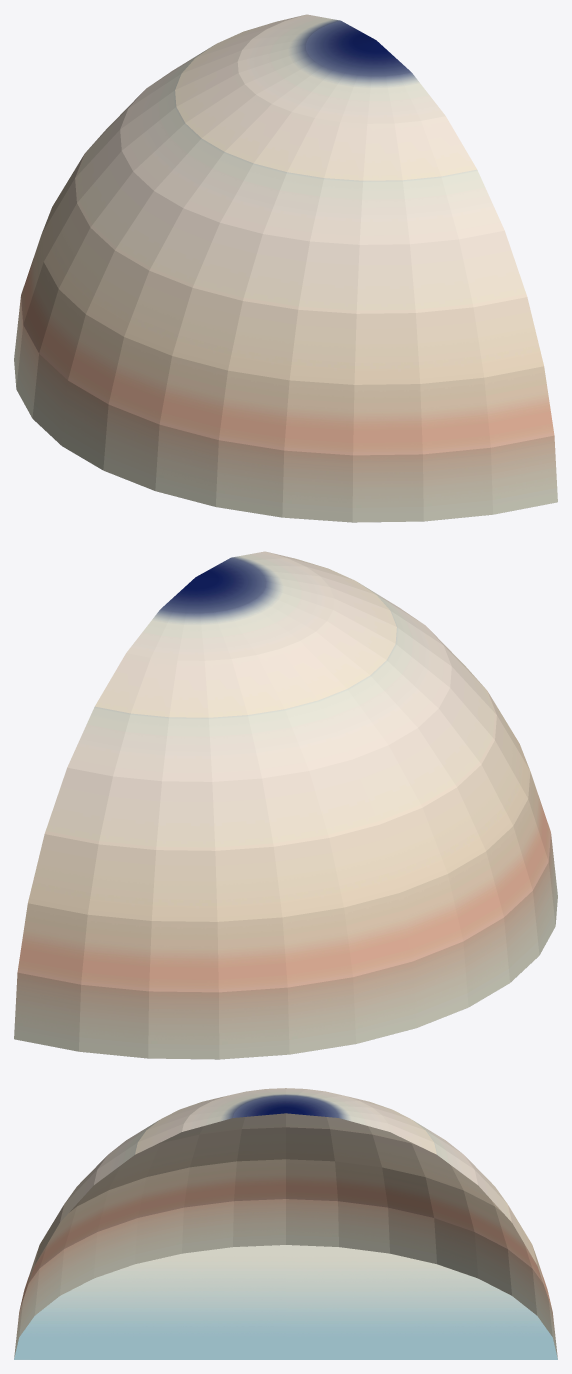
Rendered from Context.dae.
3 views of the same model, one above another, from view 1: azimuth 30°, elevation 25°; view 2: azimuth 150°, elevation 25°; view 3: azimuth 270°, elevation 25° (orthographic). The views are drawn at different scales.
Visible parts, largest first — view 1: group_2, group_4, group_17, group_9, group_12, group_3, group_10, group_11, group_14, group_15, group_5, group_13 (+3 smaller); view 2: group_16, group_6, group_8, group_13, group_7, group_5, group_15, group_14, group_11, group_10, group_3, group_9 (+3 smaller); view 3: group_0, group_11, group_14, group_10, group_15, group_3, group_5, group_9, group_13, group_4, group_6, group_2 (+5 smaller).
Boxes of the visible parts, x1=… form: group_2: x1=352, y1=41, x2=423, y2=522; group_4: x1=282, y1=41, x2=376, y2=522; group_17: x1=376, y1=41, x2=492, y2=521; group_9: x1=215, y1=41, x2=375, y2=517; group_12: x1=377, y1=41, x2=557, y2=514; group_3: x1=155, y1=41, x2=375, y2=506; group_10: x1=103, y1=41, x2=374, y2=490; group_11: x1=62, y1=40, x2=375, y2=469; group_14: x1=32, y1=40, x2=374, y2=445; group_15: x1=16, y1=40, x2=373, y2=418; group_5: x1=14, y1=40, x2=374, y2=387; group_13: x1=42, y1=38, x2=372, y2=232; group_16: x1=148, y1=578, x2=219, y2=1059; group_6: x1=195, y1=578, x2=289, y2=1059; group_8: x1=79, y1=578, x2=195, y2=1058; group_13: x1=196, y1=578, x2=356, y2=1054; group_7: x1=14, y1=578, x2=194, y2=1051; group_5: x1=196, y1=578, x2=416, y2=1043; group_15: x1=197, y1=578, x2=468, y2=1027; group_14: x1=196, y1=577, x2=509, y2=1006; group_11: x1=197, y1=577, x2=539, y2=982; group_10: x1=198, y1=577, x2=555, y2=955; group_3: x1=197, y1=577, x2=557, y2=924; group_9: x1=199, y1=575, x2=529, y2=769; group_0: x1=14, y1=1245, x2=557, y2=1359; group_11: x1=233, y1=1088, x2=285, y2=1246; group_14: x1=286, y1=1088, x2=338, y2=1246; group_10: x1=182, y1=1089, x2=285, y2=1253; group_15: x1=286, y1=1089, x2=389, y2=1253; group_3: x1=135, y1=1091, x2=284, y2=1263; group_5: x1=287, y1=1091, x2=436, y2=1263; group_9: x1=93, y1=1095, x2=284, y2=1278; group_13: x1=287, y1=1095, x2=478, y2=1278; group_4: x1=60, y1=1101, x2=283, y2=1295; group_6: x1=288, y1=1101, x2=511, y2=1295; group_2: x1=34, y1=1105, x2=284, y2=1315.
Bounding box in the file's own units: 264 × 527 × 264.
2 materials, 2 textured.
